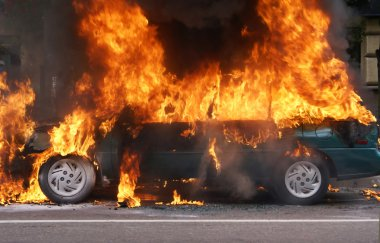fire: (266, 7, 359, 124), (92, 12, 178, 125), (199, 65, 262, 126), (49, 110, 87, 157), (116, 168, 141, 208), (18, 168, 43, 204)
